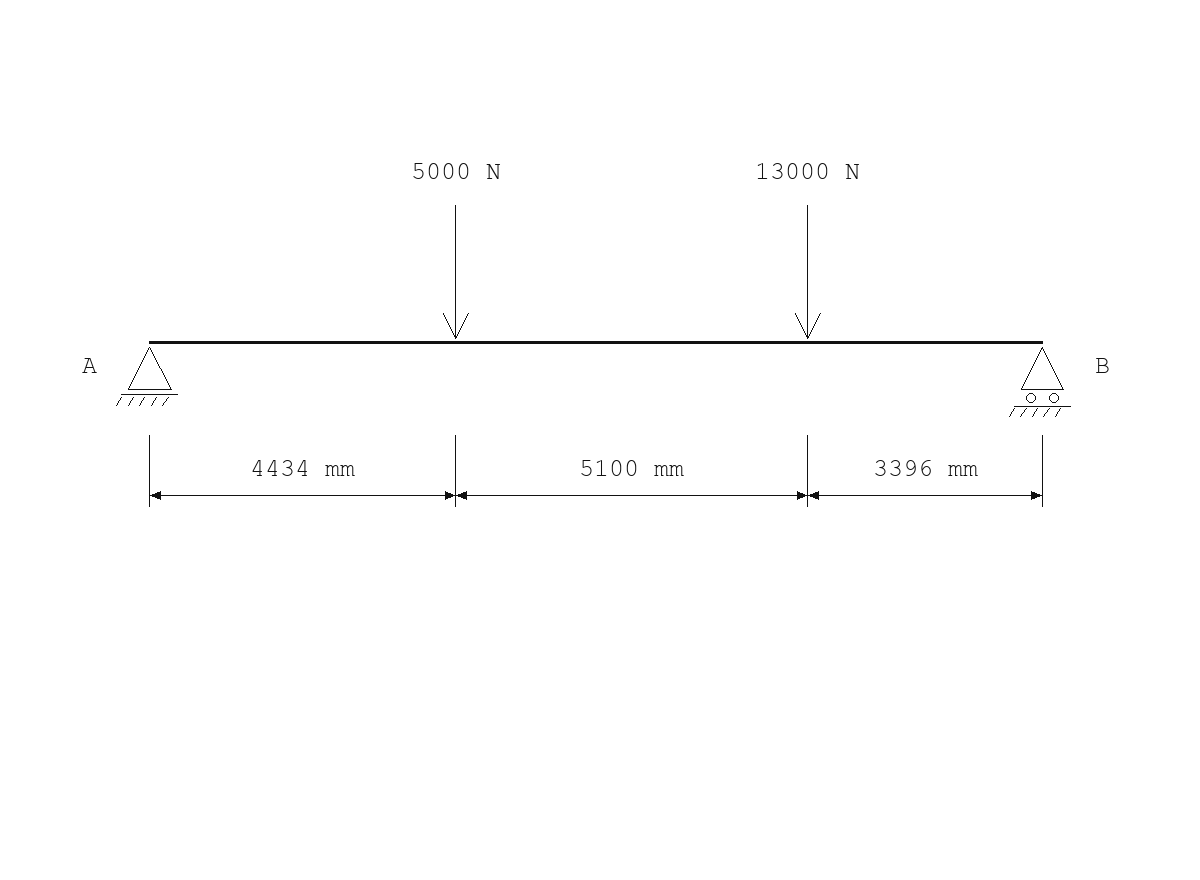pin_support: (116, 347, 178, 406)
point_load: (443, 205, 469, 339), (795, 205, 821, 339)
roller_support: (1009, 347, 1071, 417)
